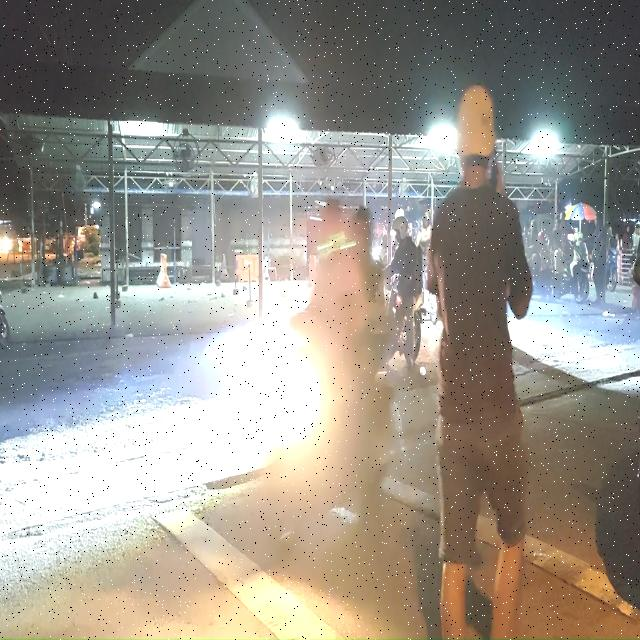Golongan II: (255, 312, 392, 551), (387, 273, 437, 364), (553, 239, 590, 304), (528, 245, 553, 302), (606, 246, 618, 292)
